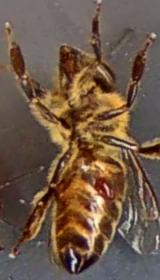varroa_mite: (86, 162, 120, 206)
